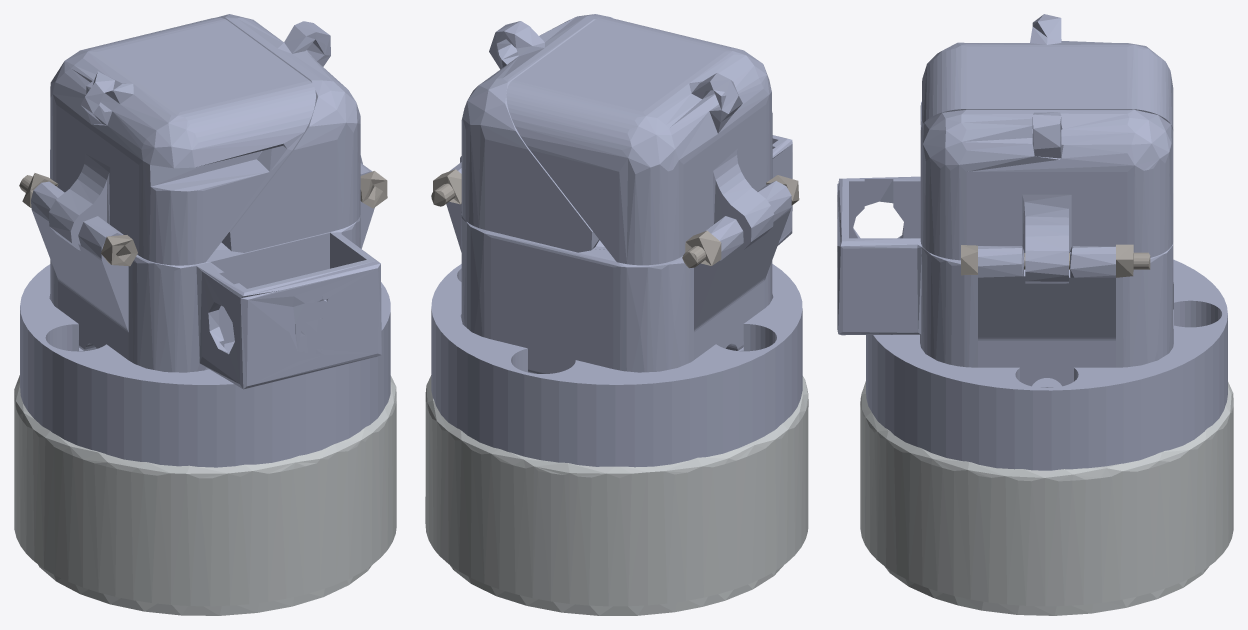
File: ball_gripper.dae
3 views of the same model, side by side, from view 1: azimuth 30°, elevation 25°; view 2: azimuth 150°, elevation 25°; view 3: azimuth 270°, elevation 25° (orthographic). The views are drawn at different scales.
Visible parts, largest first — view 1: l6; view 2: l6; view 3: l6.
Part boxes in pixels (box(x1,y1,x2,y2)): l6: box(14, 14, 396, 615); l6: box(425, 14, 808, 615); l6: box(837, 14, 1233, 615).
Bounding box in the file's own units: 0.065 × 0.069 × 0.0918.
